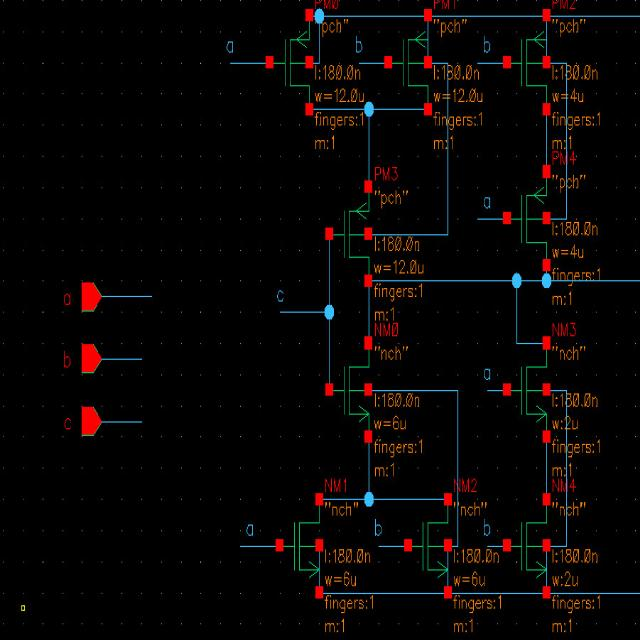nmos: (276, 492, 325, 601), (502, 494, 552, 598), (502, 338, 551, 442), (326, 335, 372, 443), (404, 494, 452, 580)
pmos: (383, 8, 434, 120), (324, 177, 374, 290), (502, 164, 552, 270), (502, 10, 552, 114), (266, 9, 312, 120)
